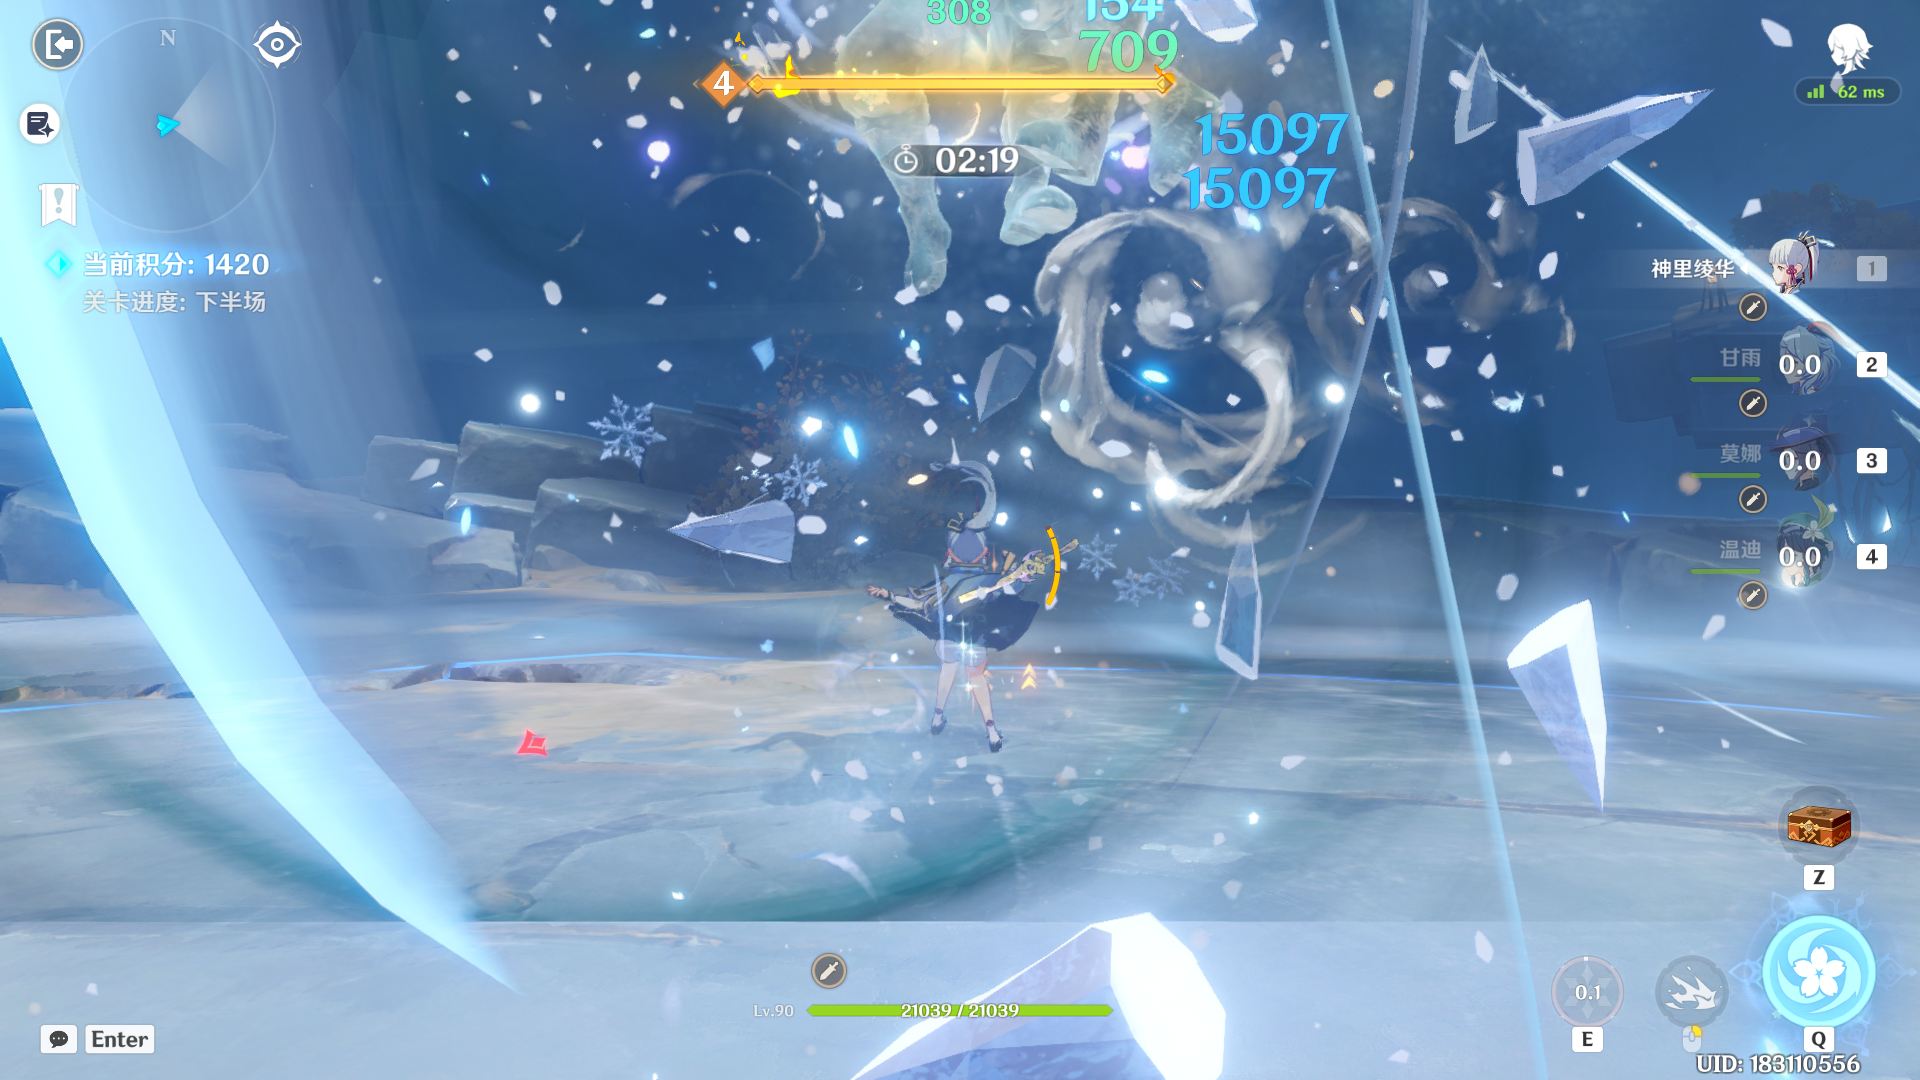character: (857, 487, 1095, 770)
